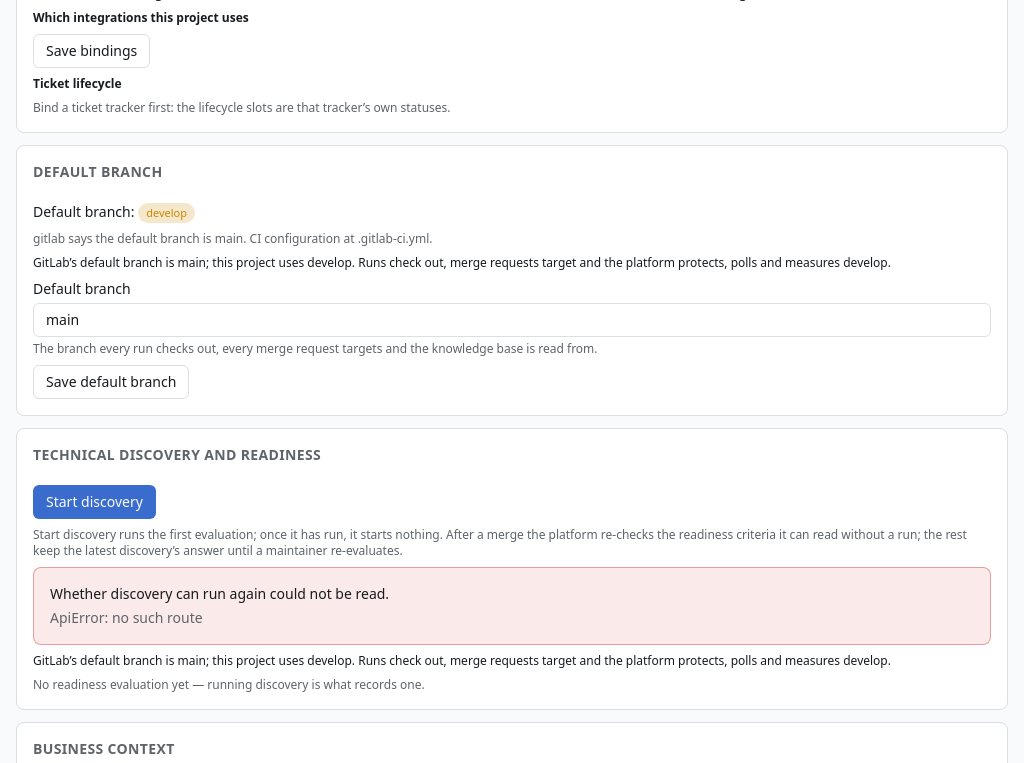
Test: the mismatch notice (WP-142, backlog 441) › says on the settings page and beside readiness that GitLab’s default is another branch, and goes when they agree
The image size is (1024, 763).
(page scrolled)
Expected: the number of messages with test id "default-branch-mismatch" is 2, [33,255,991,271]; [33,653,991,669]
Expected: the message with test id "default-branch-mismatch" below "says the default branch is" shows "GitLab’s default branch is main; this project uses develop. Runs check out, merge requests target and the platform protects, polls and measures develop.", [33,255,991,271]
Click the button "Save default branch" at (111, 382), box [33,365,189,399]
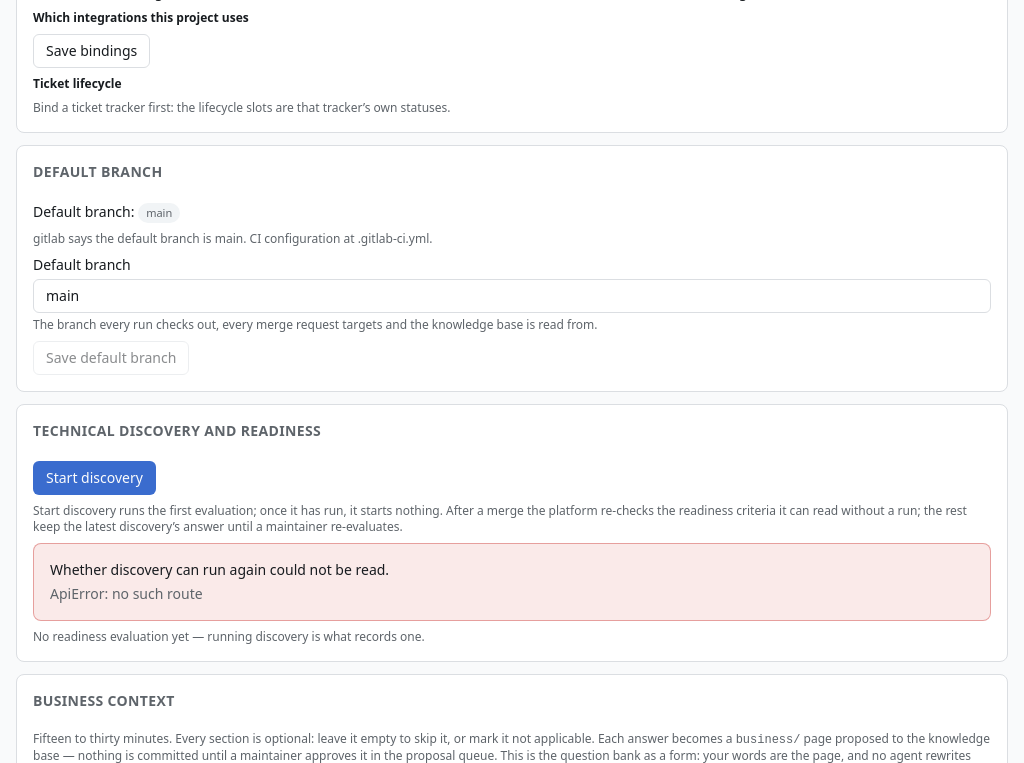
Now no messages with test id "default-branch-mismatch" are shown
